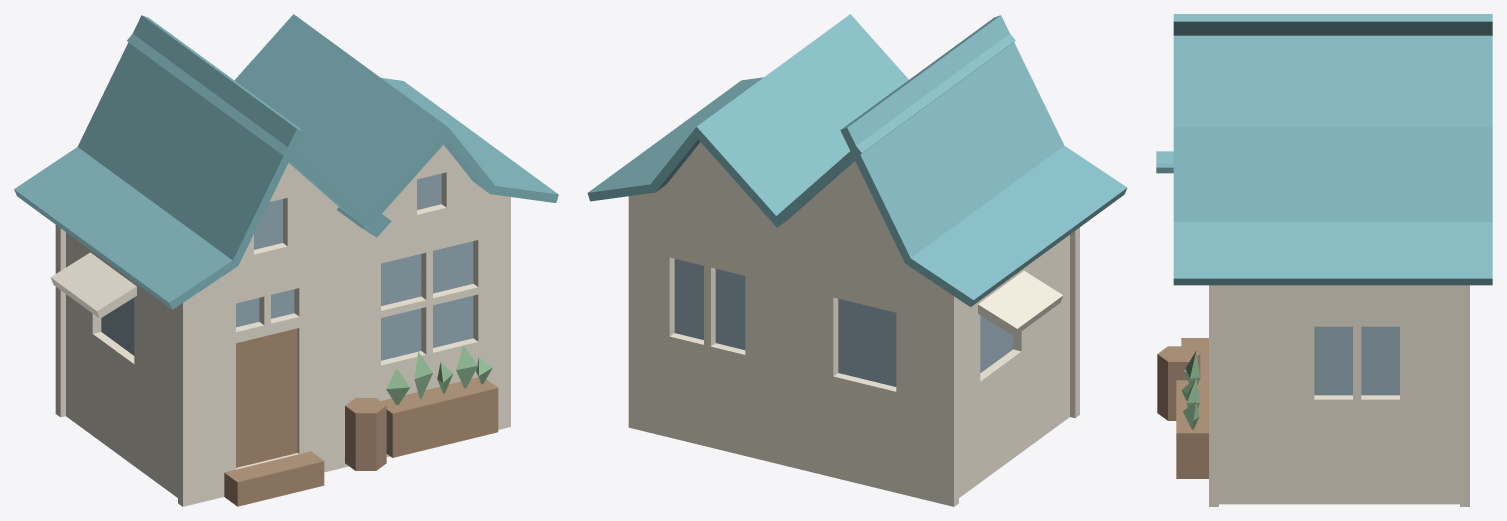
The model's file is folded_concertina.glb.
3 views of the same model, side by side, from view 1: azimuth 30°, elevation 25°; view 2: azimuth 150°, elevation 25°; view 3: azimuth 270°, elevation 25° (orthographic). The views are drawn at different scales.
Parts seen in each view (by area): view 1: folded_concertina; view 2: folded_concertina; view 3: folded_concertina.
Boxes of the visible parts, x1,y1,x2,y2 form: folded_concertina: (14,14,558,506); folded_concertina: (587,14,1127,506); folded_concertina: (1156,14,1492,506).
Bounding box in the file's own units: 1.86 × 1.66 × 1.34.
